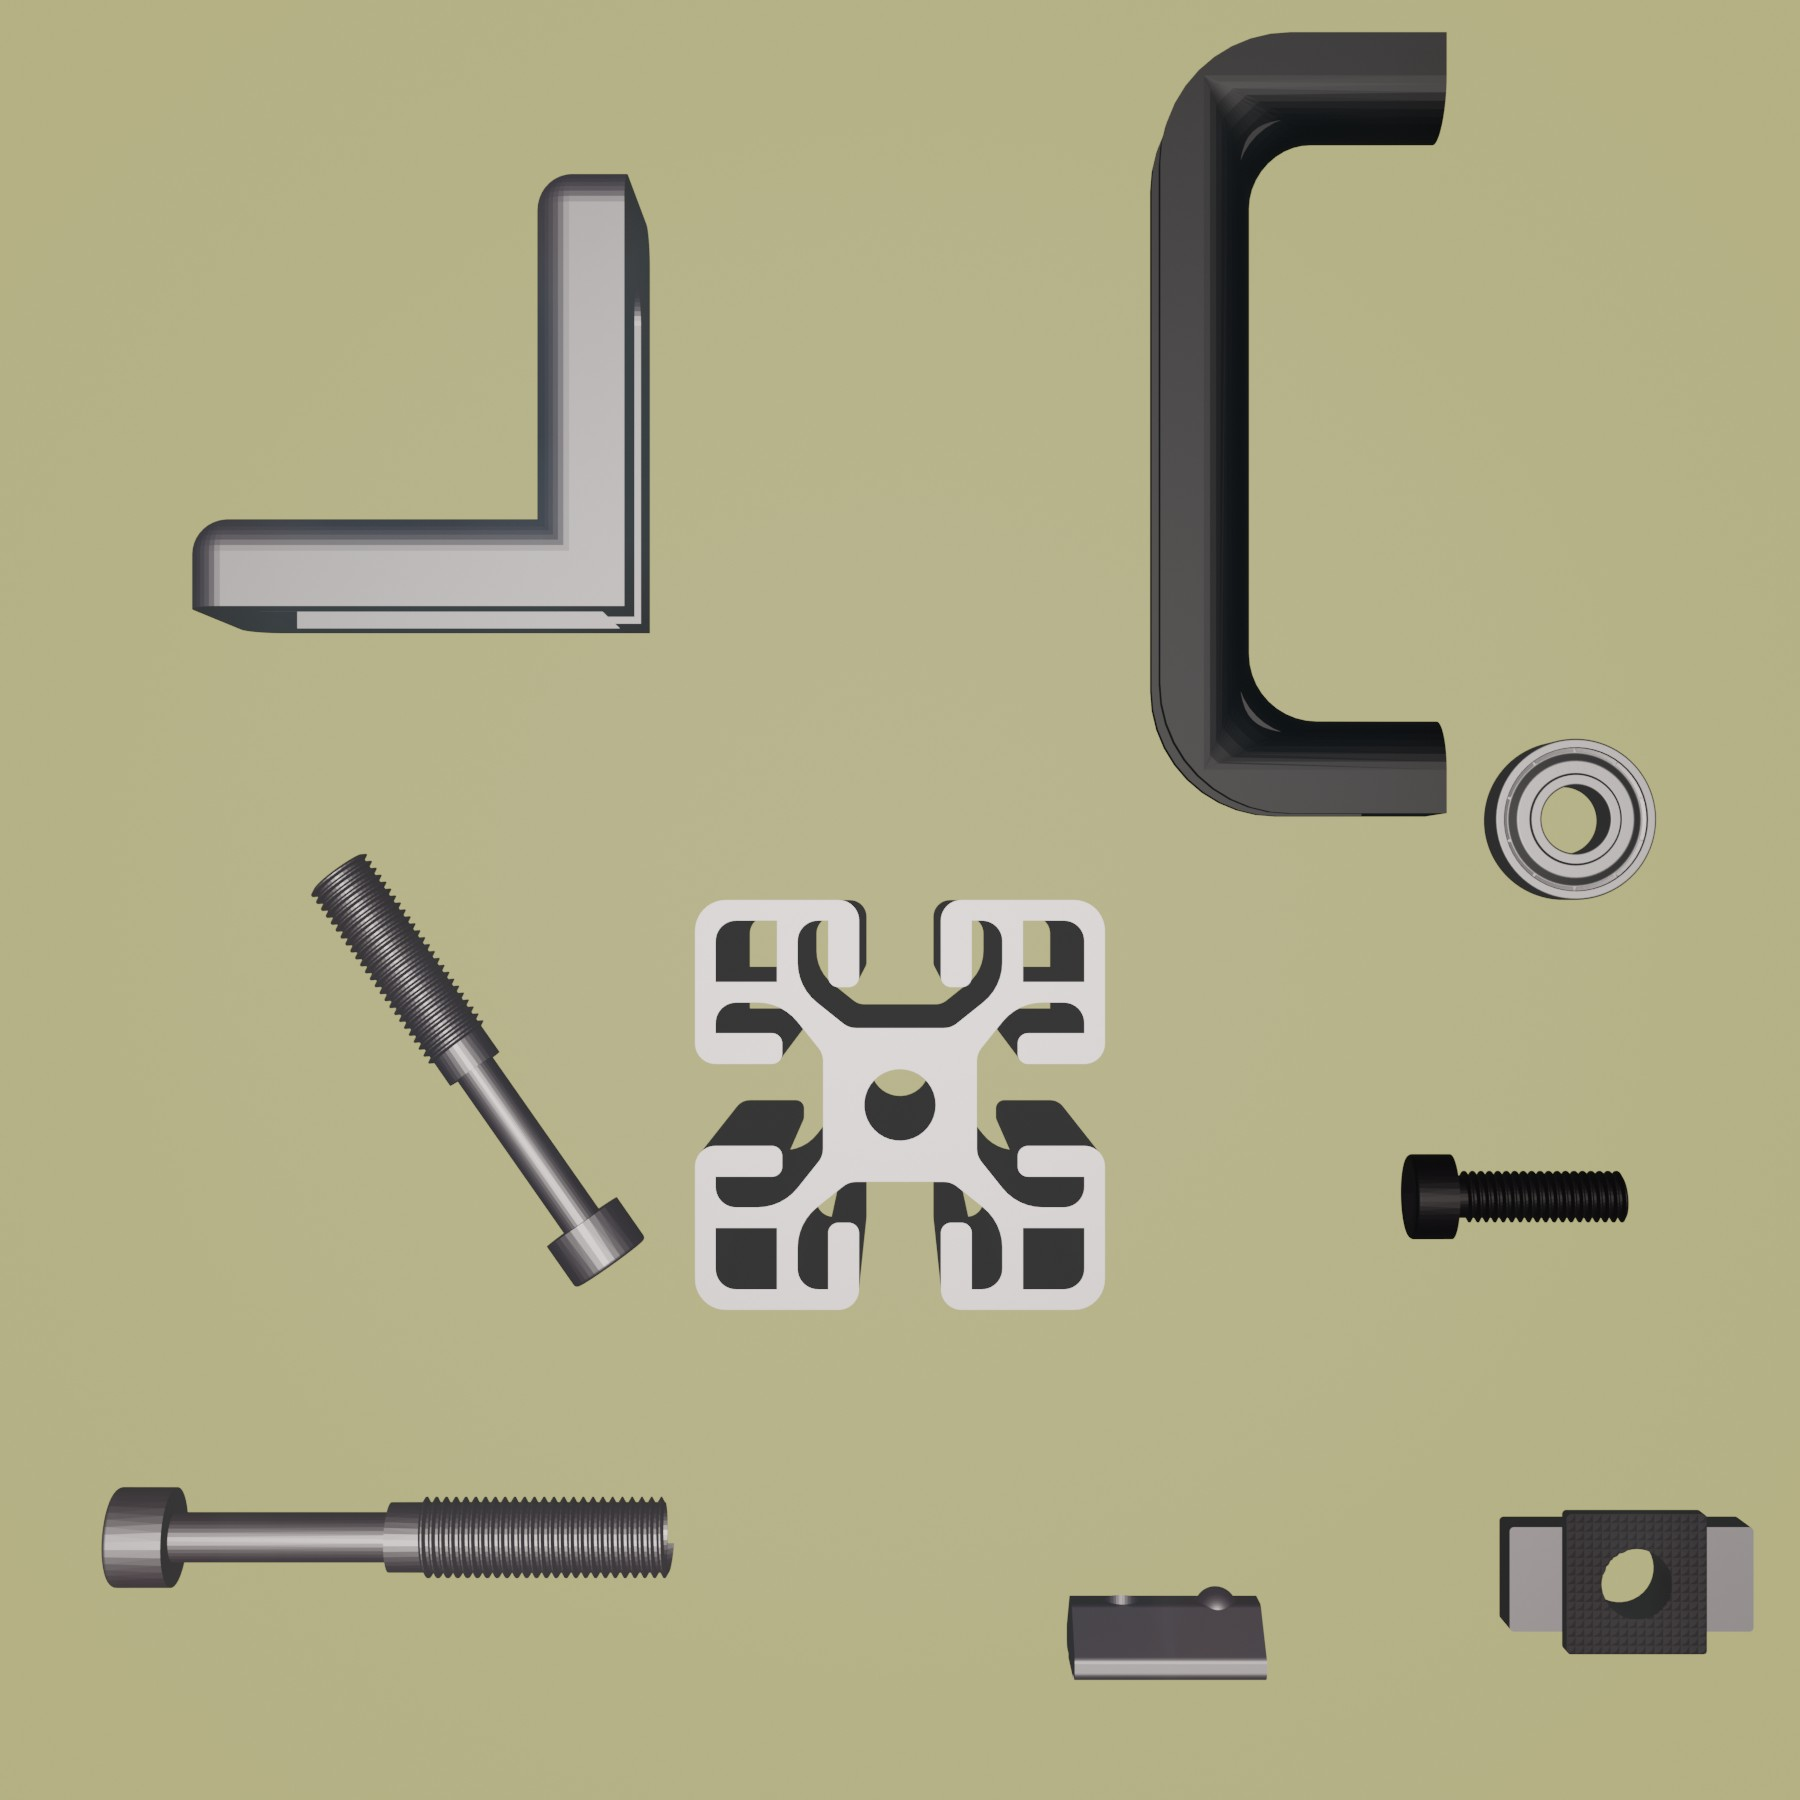Aluminium Extension: (687, 895, 1111, 1315)
Ball Bearing: (1479, 737, 1658, 903)
Multiwinkel: (190, 168, 656, 638)
Pull Handle: (1142, 26, 1451, 819)
Shoulder Socket Head Cap Screw: (307, 851, 646, 1289), (97, 1482, 677, 1592)
Socket Head Cap Screw: (1398, 1151, 1630, 1241)
T Nut Square: (1498, 1505, 1759, 1658)
T Spring Nut: (1062, 1582, 1271, 1686)
